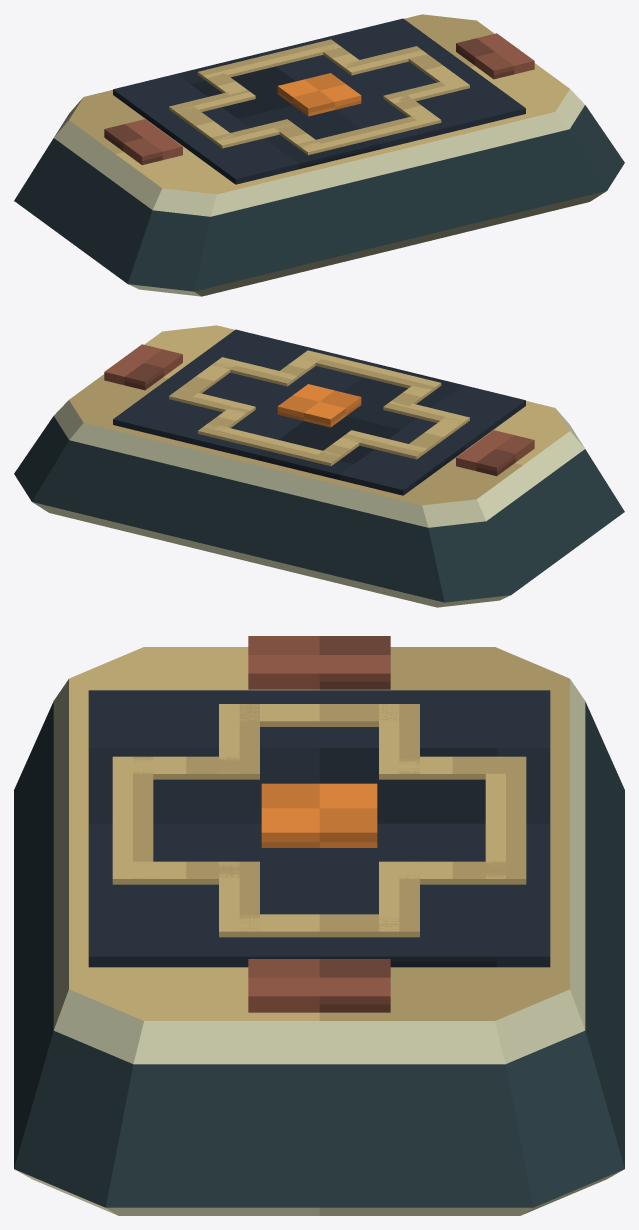
The model's file is huashen_dari_ingot.obj.
3 renders of one model, top to bottom at view 1: azimuth 30°, elevation 25°; view 2: azimuth 150°, elevation 25°; view 3: azimuth 270°, elevation 25°, orthographic. The views are drawn at different scales.
Parts seen in each view (by area): view 1: ingot_body, ingot_sun_ground, ingot_sun_core, ingot_sun_red_seal_-1, ingot_sun_red_seal_1, ingot_step_sun_2, ingot_step_sun_8, ingot_step_sun_11, ingot_step_sun_5, ingot_step_sun_4, ingot_step_sun_10, ingot_step_sun_0 (+5 smaller); view 2: ingot_body, ingot_sun_ground, ingot_sun_core, ingot_sun_red_seal_-1, ingot_sun_red_seal_1, ingot_step_sun_2, ingot_step_sun_8, ingot_step_sun_5, ingot_step_sun_11, ingot_step_sun_0, ingot_step_sun_6, ingot_step_sun_10 (+5 smaller); view 3: ingot_body, ingot_sun_ground, ingot_sun_red_seal_-1, ingot_sun_red_seal_1, ingot_sun_core, ingot_step_sun_2, ingot_step_sun_5, ingot_step_sun_8, ingot_step_sun_11, ingot_step_sun_7, ingot_step_sun_9, ingot_step_sun_3 (+5 smaller).
Part boxes in pixels (x1,y1,x2,y2): ingot_body: (14, 14, 624, 296); ingot_sun_ground: (113, 18, 525, 184); ingot_sun_core: (277, 73, 361, 116); ingot_sun_red_seal_-1: (104, 119, 182, 165); ingot_sun_red_seal_1: (456, 33, 534, 79); ingot_step_sun_2: (198, 39, 341, 82); ingot_step_sun_8: (297, 114, 440, 155); ingot_step_sun_11: (170, 102, 239, 147); ingot_step_sun_5: (398, 46, 469, 89); ingot_step_sun_4: (340, 46, 426, 74); ingot_step_sun_10: (211, 119, 293, 148); ingot_step_sun_0: (169, 90, 255, 116); ingot_body: (14, 325, 624, 607); ingot_sun_ground: (113, 329, 525, 495); ingot_sun_core: (277, 384, 361, 427); ingot_sun_red_seal_-1: (456, 430, 534, 476); ingot_sun_red_seal_1: (104, 344, 182, 390); ingot_step_sun_2: (197, 423, 341, 465); ingot_step_sun_8: (299, 351, 441, 389); ingot_step_sun_5: (169, 357, 240, 402); ingot_step_sun_11: (398, 413, 469, 459); ingot_step_sun_0: (341, 430, 426, 459); ingot_step_sun_6: (212, 357, 298, 386); ingot_step_sun_10: (383, 401, 469, 427); ingot_body: (14, 647, 624, 1215); ingot_sun_ground: (88, 690, 550, 967); ingot_sun_red_seal_-1: (248, 636, 390, 689); ingot_sun_red_seal_1: (248, 959, 390, 1012); ingot_sun_core: (261, 783, 377, 847); ingot_step_sun_2: (485, 756, 526, 884); ingot_step_sun_5: (219, 914, 419, 937); ingot_step_sun_8: (112, 756, 153, 884); ingot_step_sun_11: (219, 704, 419, 726); ingot_step_sun_7: (112, 861, 259, 884); ingot_step_sun_9: (112, 756, 259, 779); ingot_step_sun_3: (379, 861, 526, 884).
Size of the model in its own units: 0.38 by 0.075 by 0.215.
